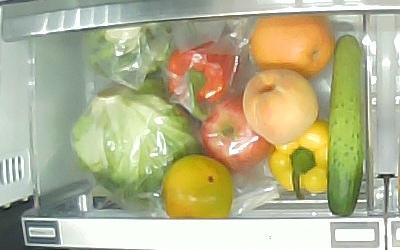apple_vinyl: (200, 96, 276, 173)
broccoli_vinyl: (82, 22, 178, 80)
cucumber: (327, 35, 363, 216)
grapefruit: (250, 14, 335, 79)
lettuce_vinyl: (69, 84, 201, 202)
paprika: (269, 120, 327, 200)
paprika_vinyl: (168, 40, 235, 121)
peach: (243, 69, 319, 144)
persimmon: (160, 154, 234, 219)
